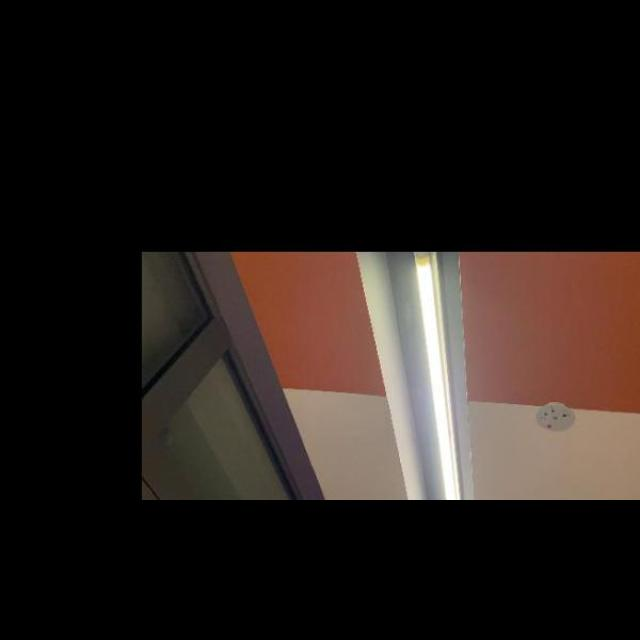Straight-Tube-Fluorescent-Lamp: (408, 252, 474, 500)
